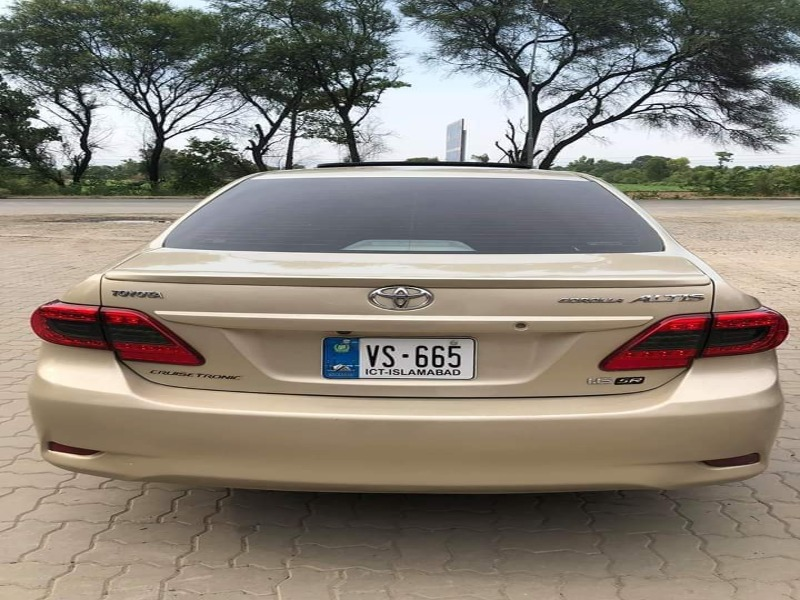License Plate: (319, 333, 481, 383)
